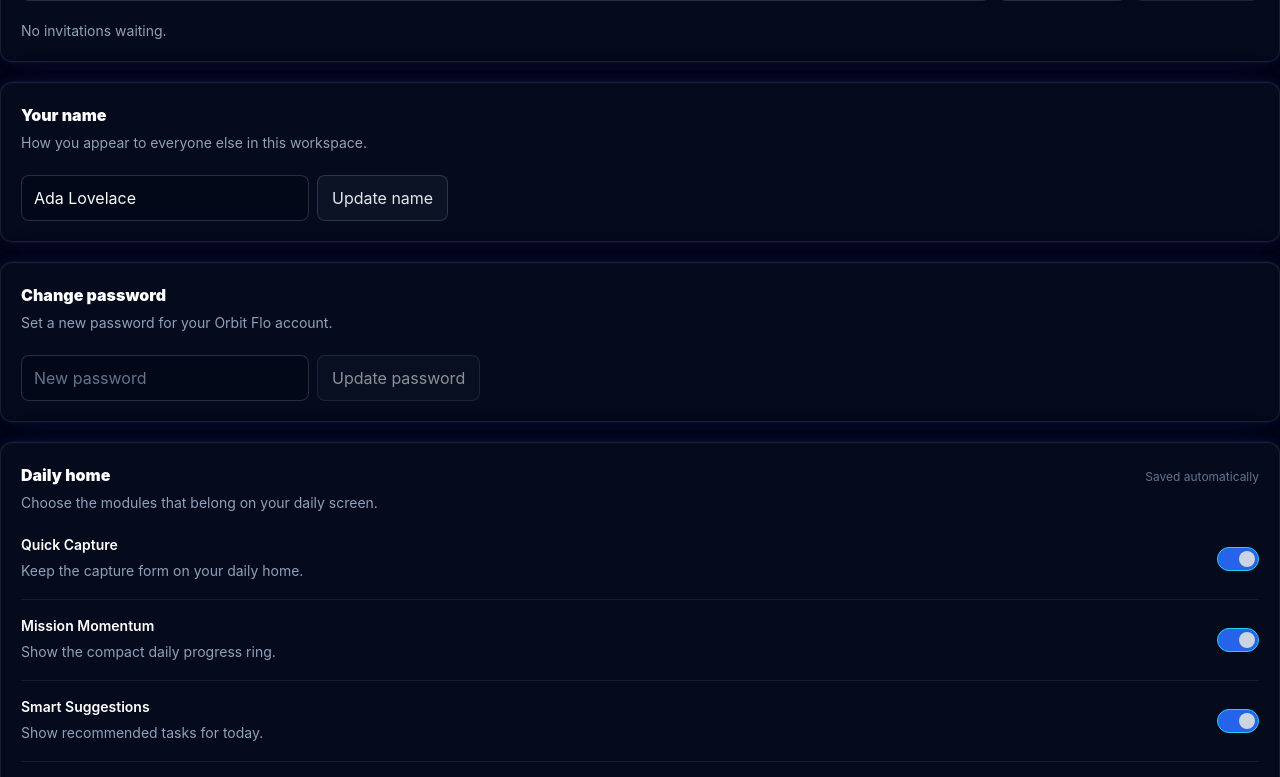
SettingsPage › updates the account password
(page scrolled)
Type "orbit-secret-1" into the password field labelled "New password" at (165, 378), box [21,354,309,400]
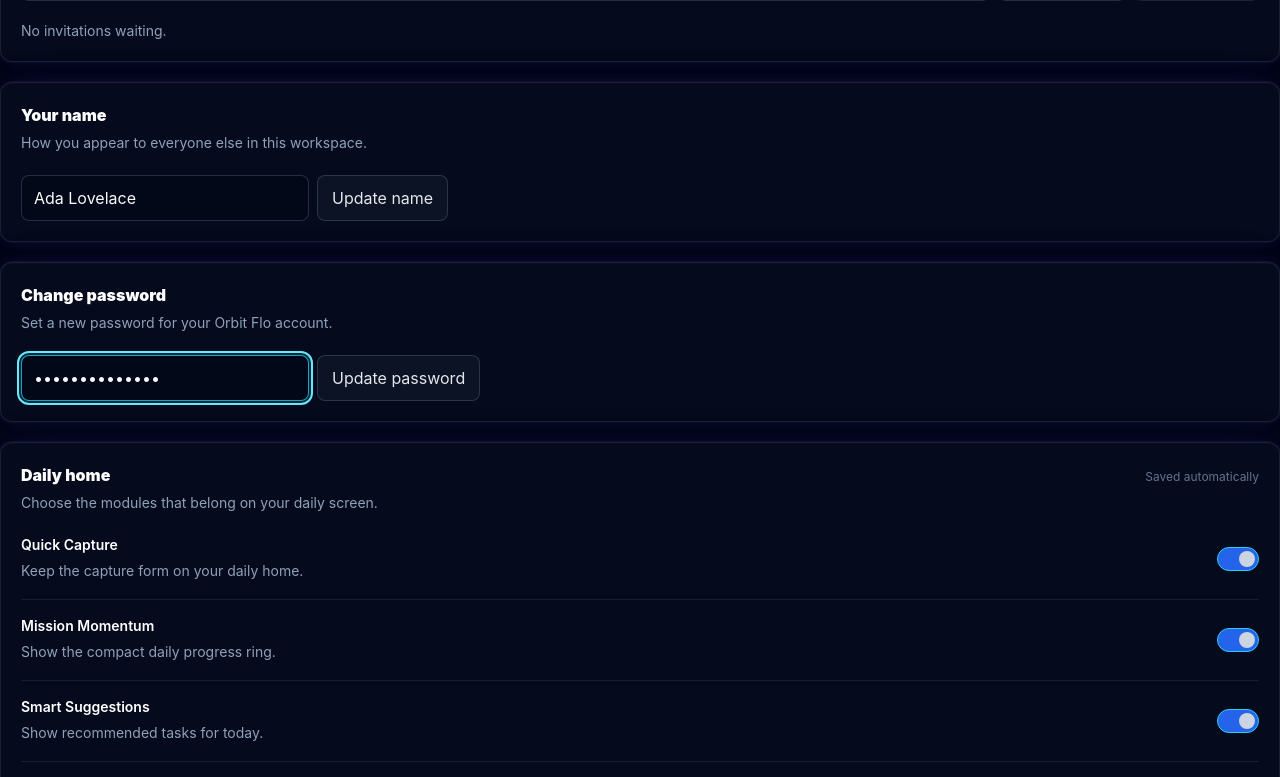
Click the button "Update password" at (399, 378), box [317,354,480,400]
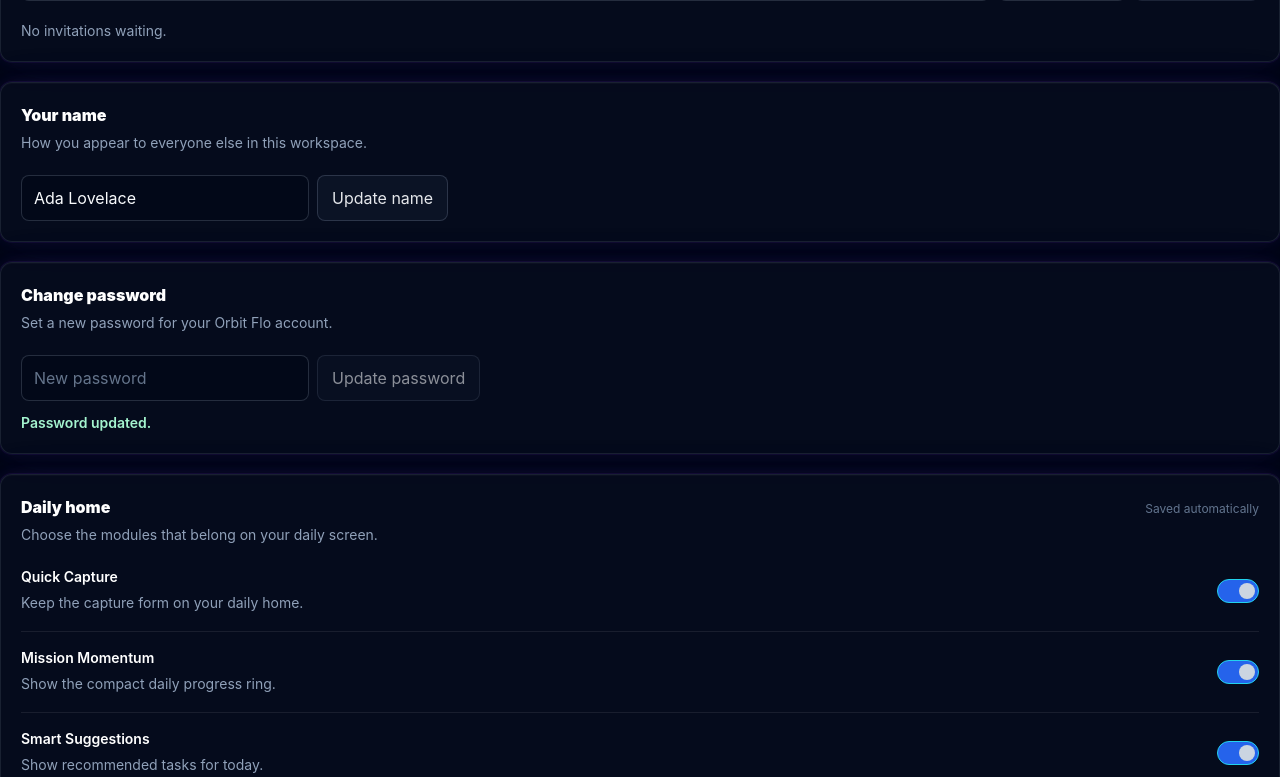
Expected: the text "Password updated." is shown, [21,414,151,430]
